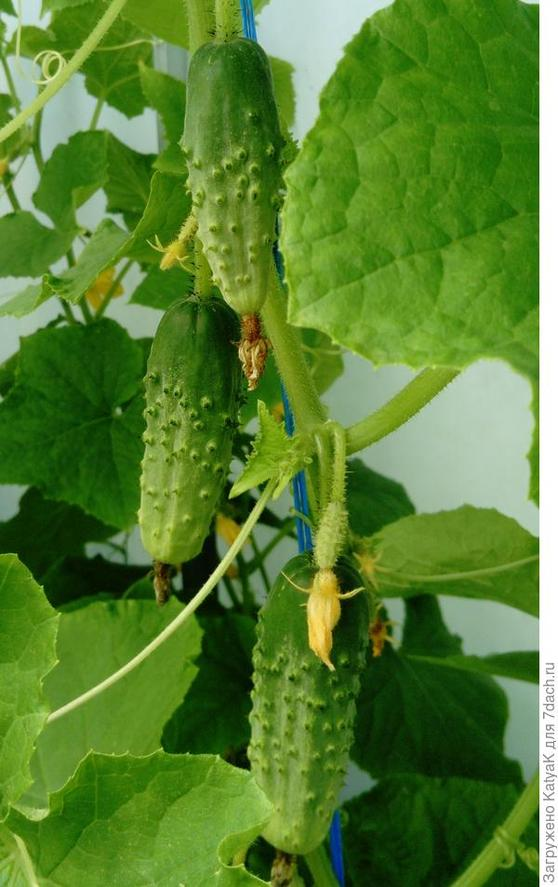cucumber: (255, 568, 364, 852), (184, 38, 283, 317), (142, 293, 241, 570)
